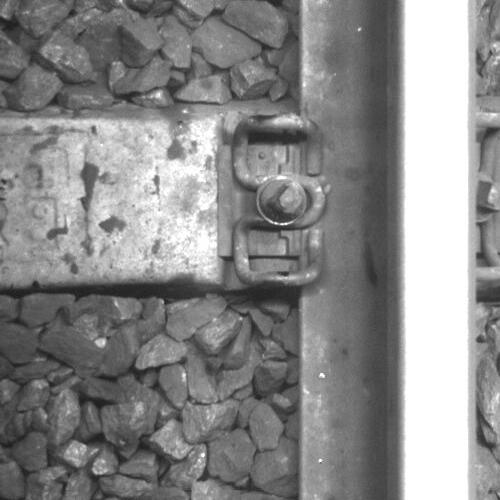rail: (400, 1, 476, 500)
tie_concr: (1, 117, 298, 281)
vossloh: (217, 114, 327, 286)
